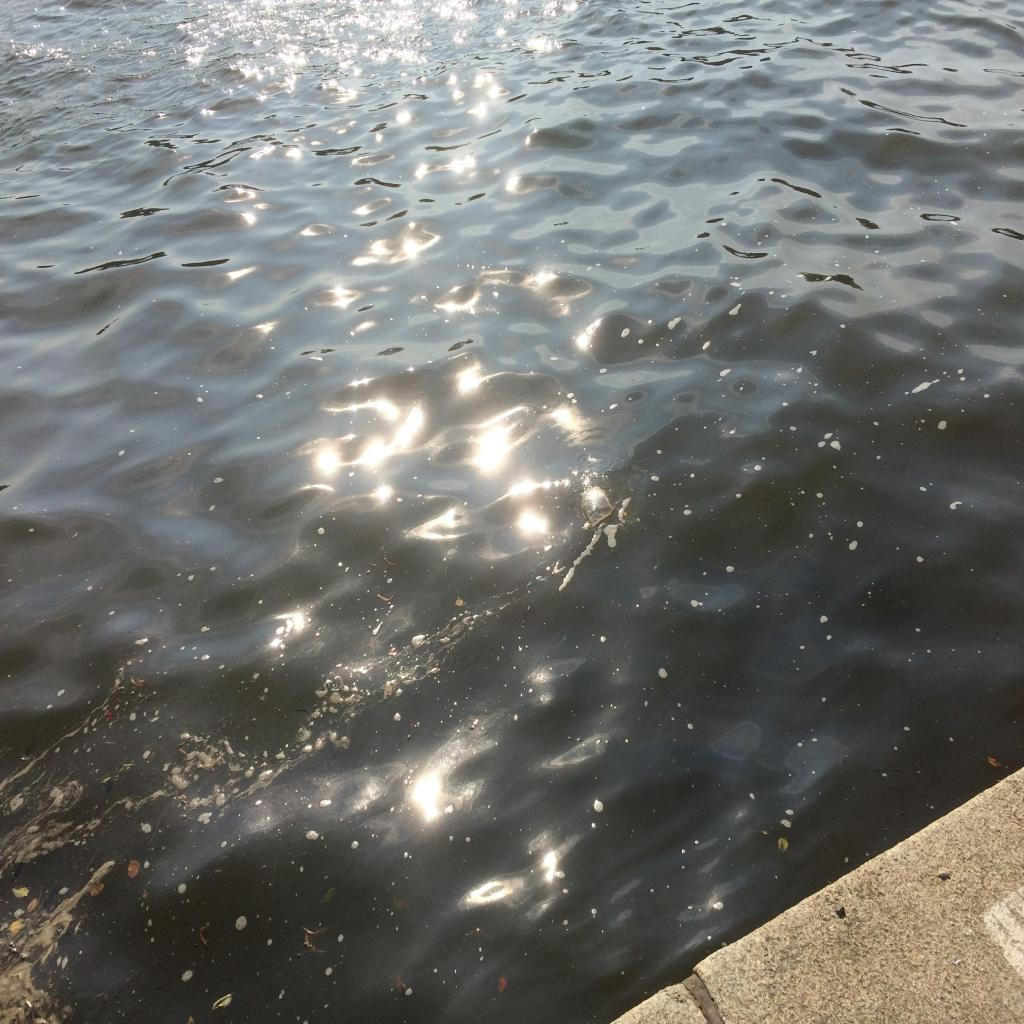Plastic film: (581, 486, 615, 528)
